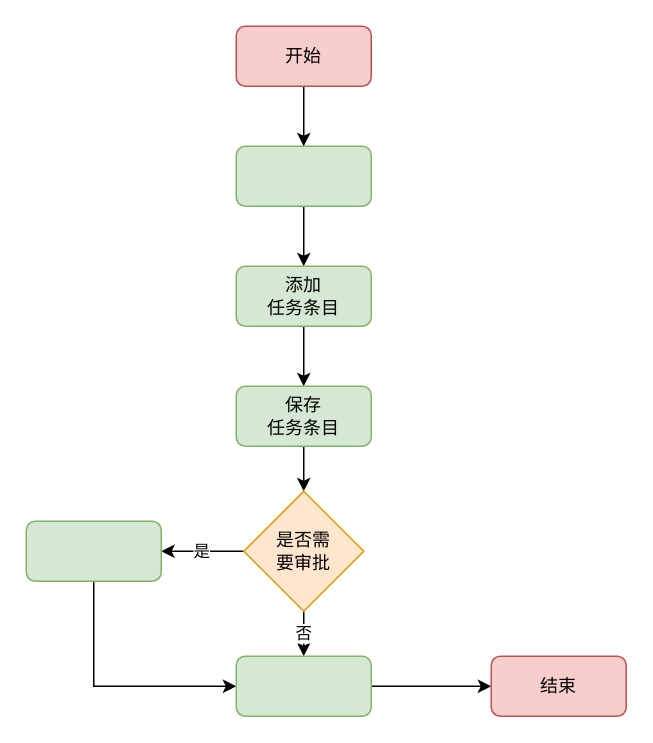
Some shapes in this 653 by 743 pixel diagram are drawn without their labels. Each missing label, with the box of its shape:
创建资源 配置变更任务: (235, 145, 371, 206)
执行 变更任务: (235, 655, 371, 716)
等待工单 审批通过: (25, 520, 161, 581)
